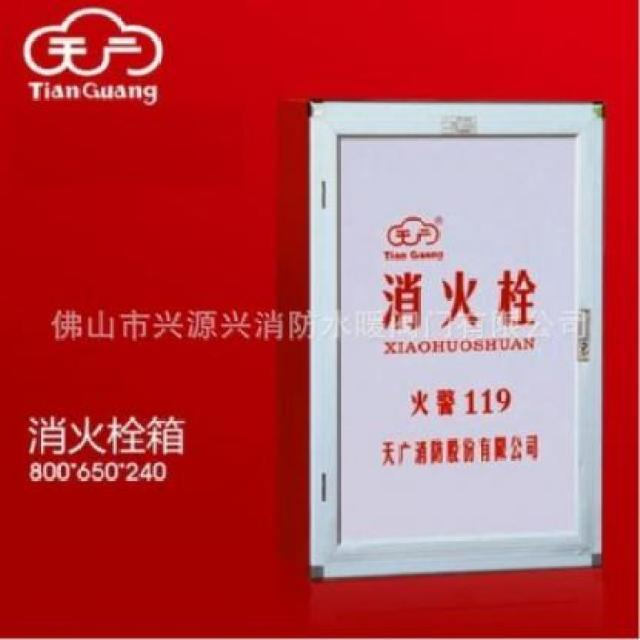firehydrant: (302, 91, 608, 585)
